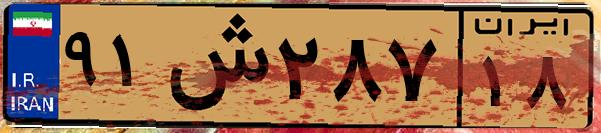1: (475, 38, 525, 113), (110, 28, 158, 98)
2: (270, 28, 330, 110)
7: (385, 28, 445, 110)
8: (330, 28, 385, 110), (525, 38, 570, 115)
9: (57, 26, 110, 100)
ش: (158, 12, 270, 120)
